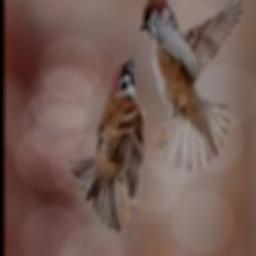Sparrow: (140, 0, 243, 173), (63, 56, 142, 230)
